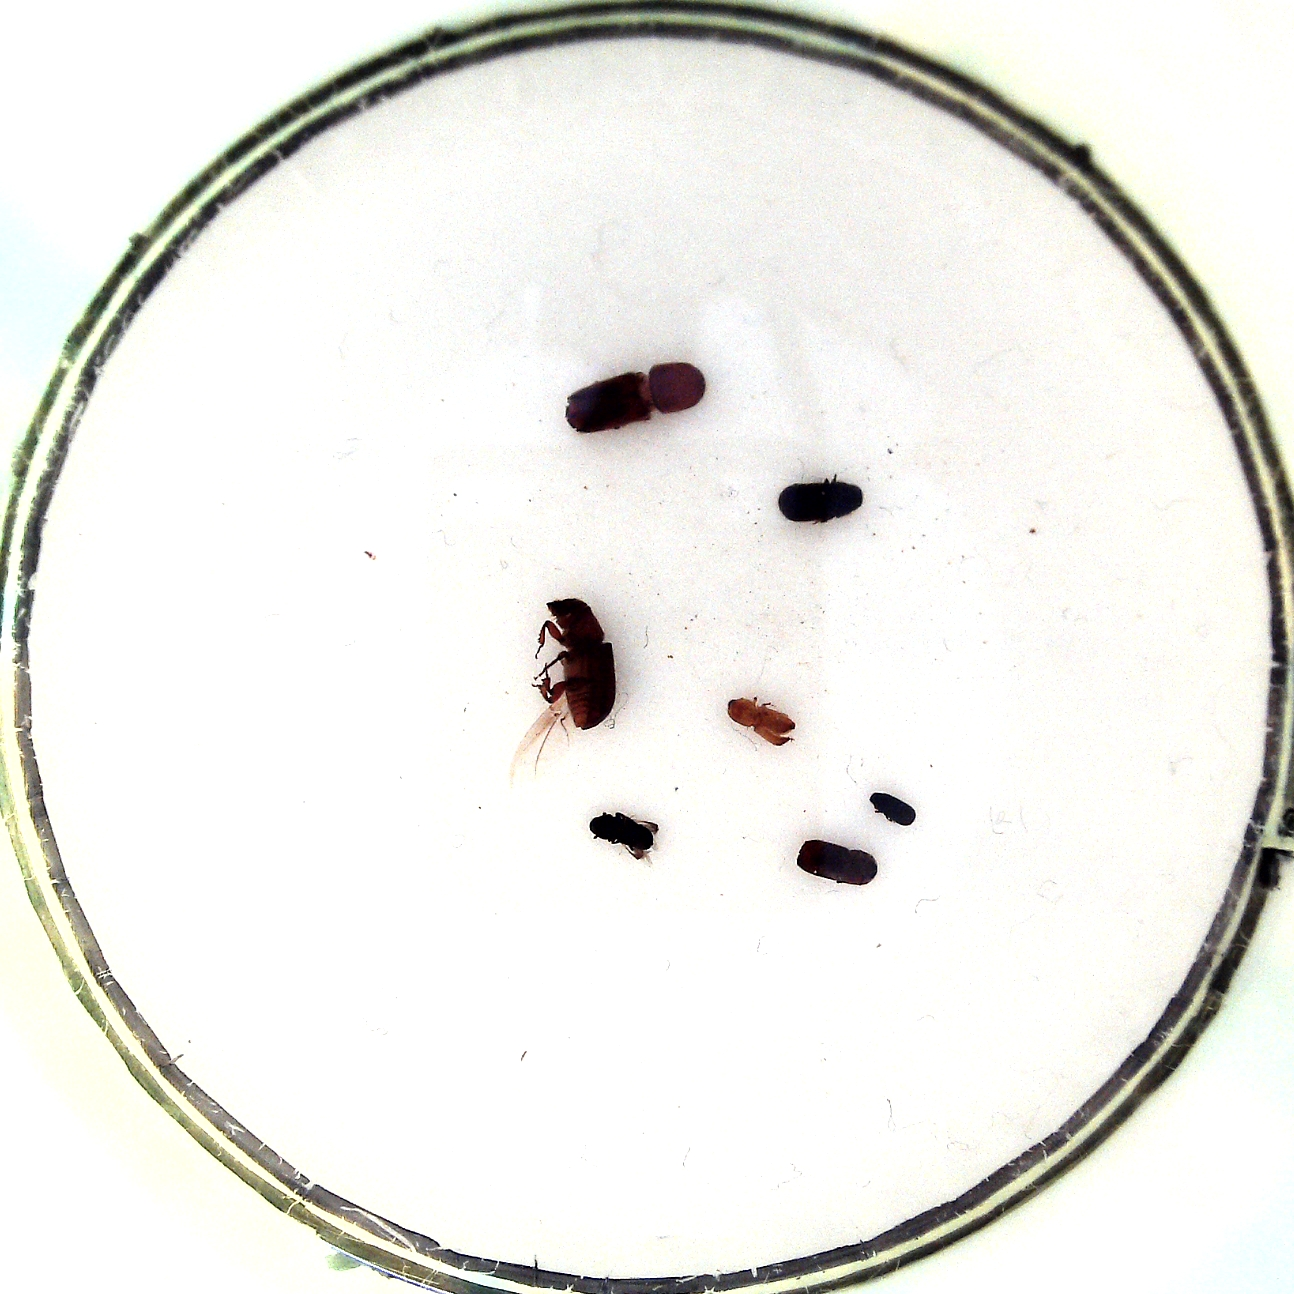Boerner: (553, 357, 715, 438)
Leconte: (511, 590, 624, 784)
Linnaeus: (793, 834, 889, 891)
acuminatus: (724, 691, 802, 752)
armandi: (771, 473, 870, 526)
coleoptera: (584, 806, 668, 865), (863, 784, 920, 832)
